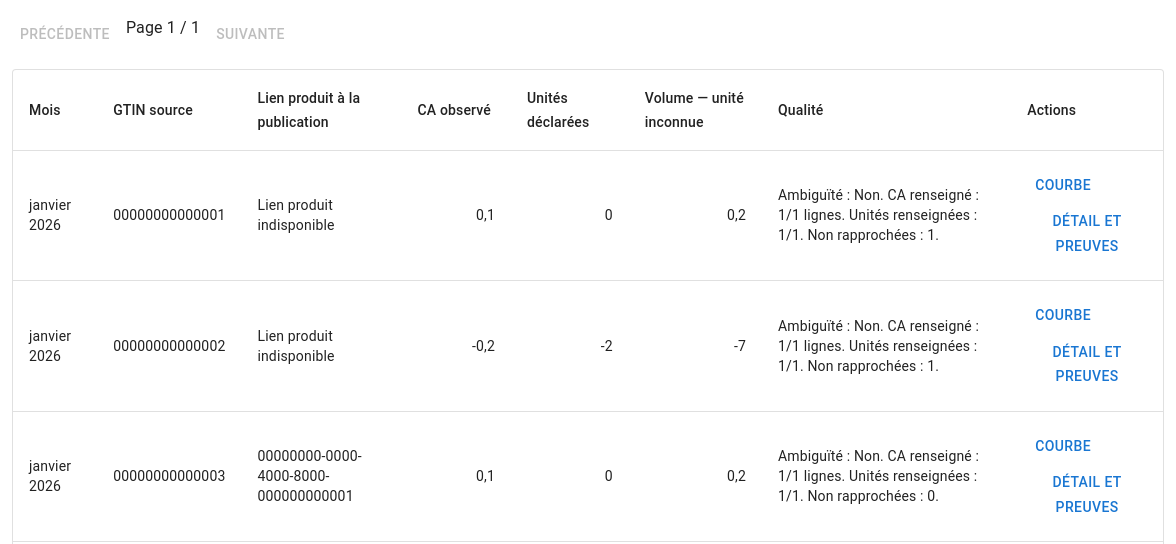
loads only the bounded active product collection, keeps unresolved rows and explicit local plots
The width and height of the screenshot is (1176, 544).
(page scrolled)
Expected: the table shows "-0,2", left=472, top=338, right=495, bottom=354
Click the button with aria-label "Courbe GTIN 00000000000001": coordinates (1063, 185) left=1027, top=166, right=1099, bottom=203
(page scrolled)
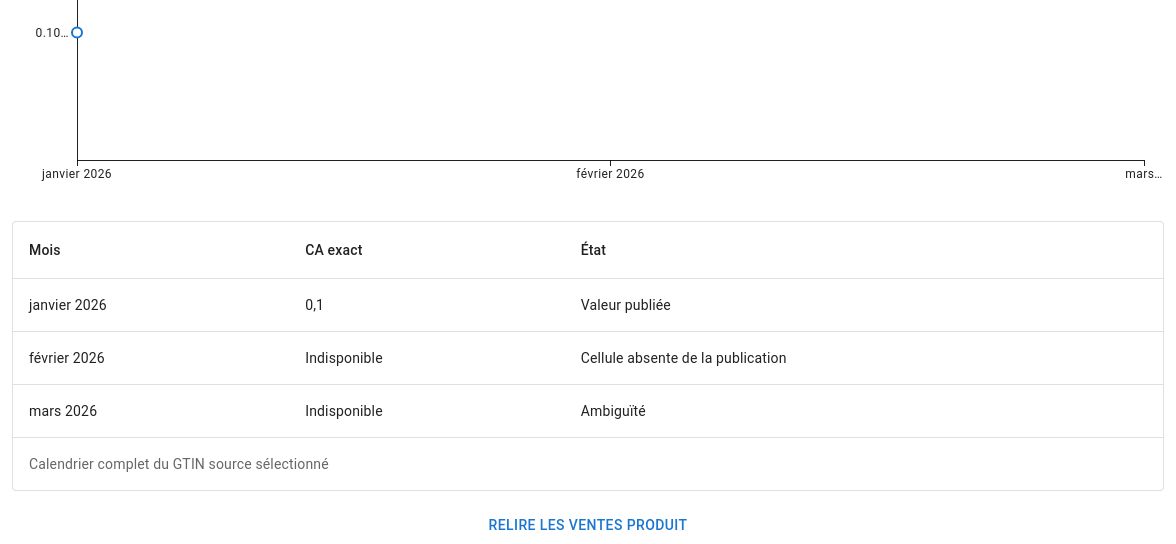
Expected: the table "Calendrier complet du GTIN source sélectionné" shows "Cellule absente", left=581, top=350, right=786, bottom=366
